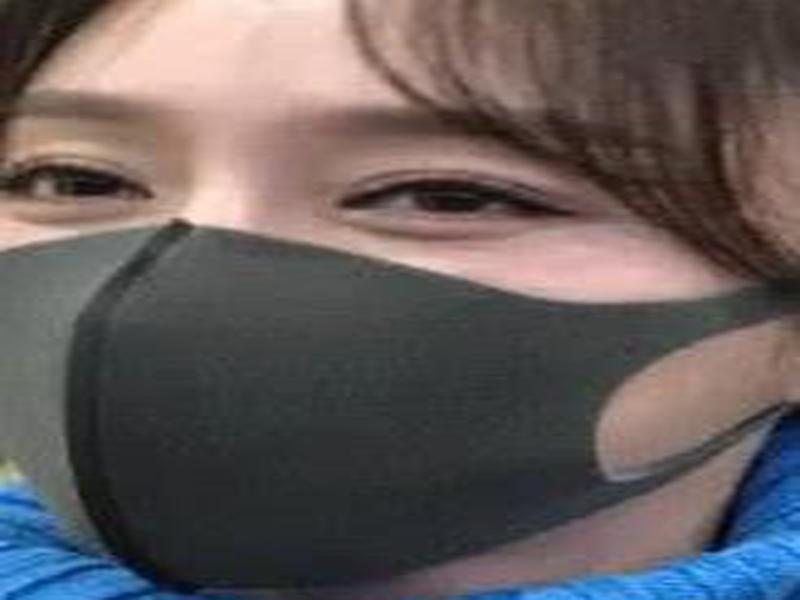with_mask: (1, 6, 793, 600)
